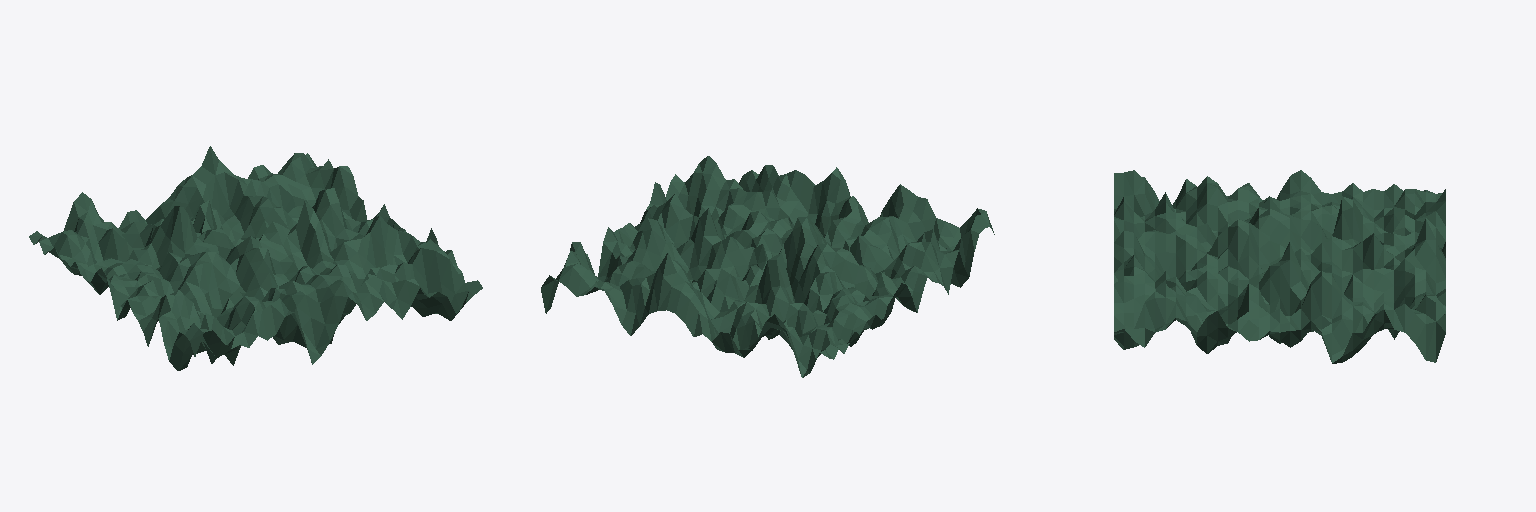
The picture shows the model from 3 angles: view 1: azimuth 30°, elevation 25°; view 2: azimuth 150°, elevation 25°; view 3: azimuth 270°, elevation 25°; orthographic projection.
Parts seen in each view (by area): view 1: 平面; view 2: 平面; view 3: 平面.
Boxes of the visible parts, x1=… form: 平面: x1=29, y1=146, x2=482, y2=370; 平面: x1=541, y1=156, x2=994, y2=377; 平面: x1=1114, y1=170, x2=1445, y2=363.
Size of the model in its own units: 100 by 33.79 by 100.
Materials: 1 (1 with a texture image).